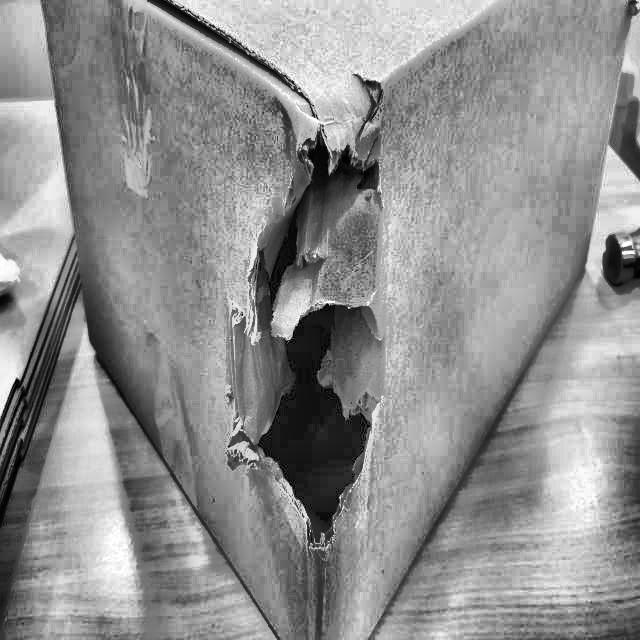box: (31, 0, 639, 639)
hole: (216, 66, 403, 554)
